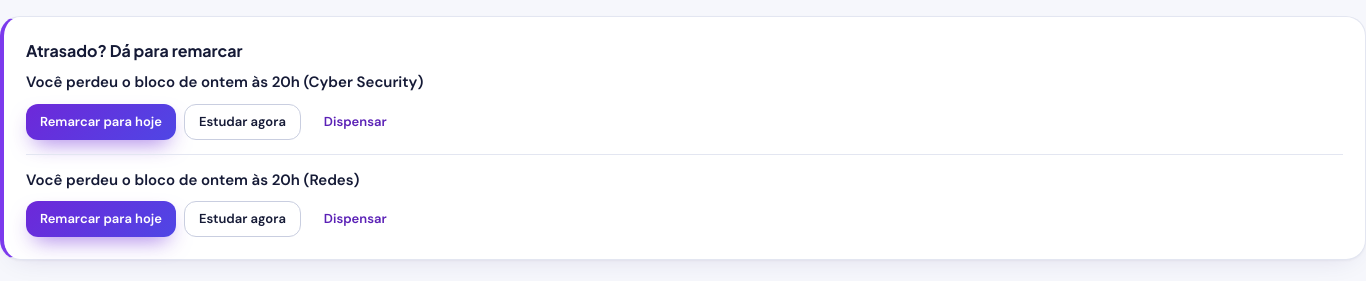
Scenario: MissedBlocks › dispensar esconde só aquele aviso e lembra no navegador
The image size is (1366, 281).
Click the 1st button "Dispensar".
click(355, 122)  # box x1=309 y1=104 x2=402 y2=140
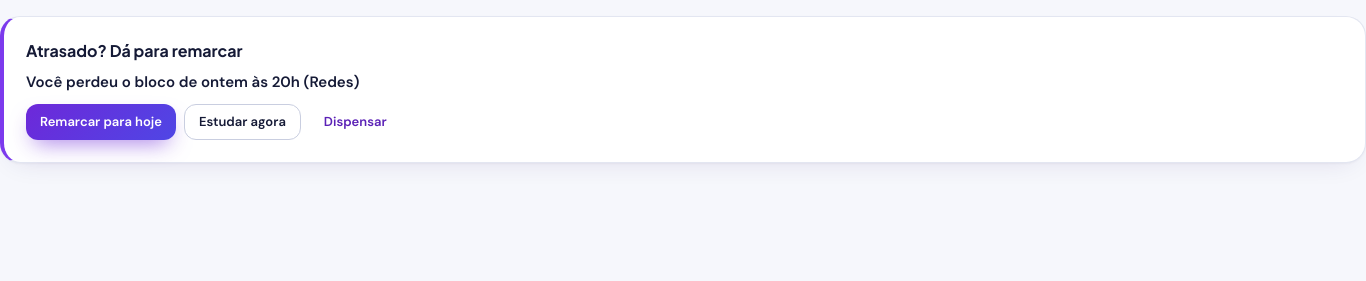
Expected: the text "Redes" is shown, x1=26 y1=72 x2=359 y2=92
Expected: the text "Cyber Security" is gone
